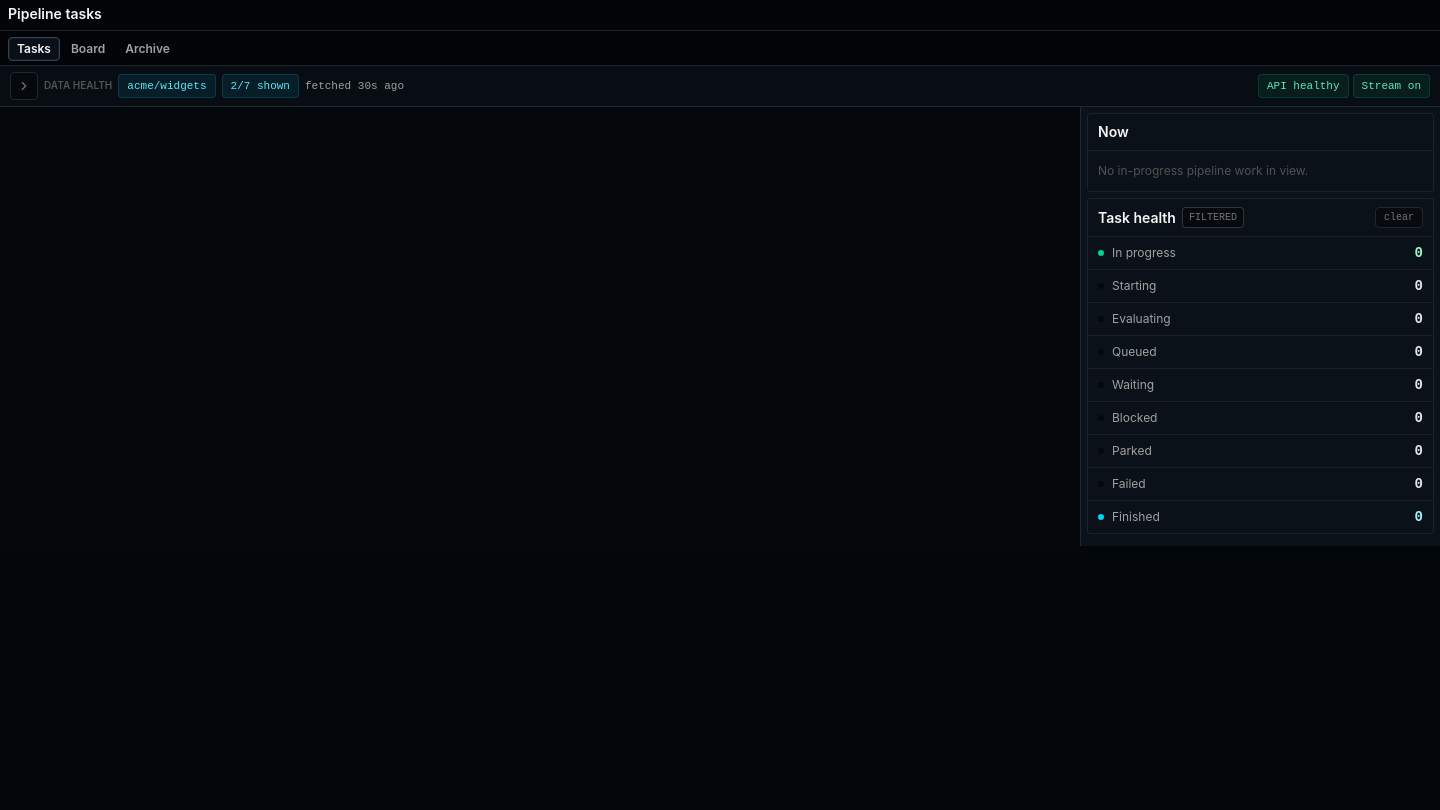
Test: PipelineWorkspace status strip › labels project scope and separates displayed, loaded, and server totals
Expected: the button "Board" is shown, [62,37,114,61]
Expected: the text "Data health" is shown, [44,79,112,93]
Click the button titled "Show data details": (24, 86) [10,72,38,100]
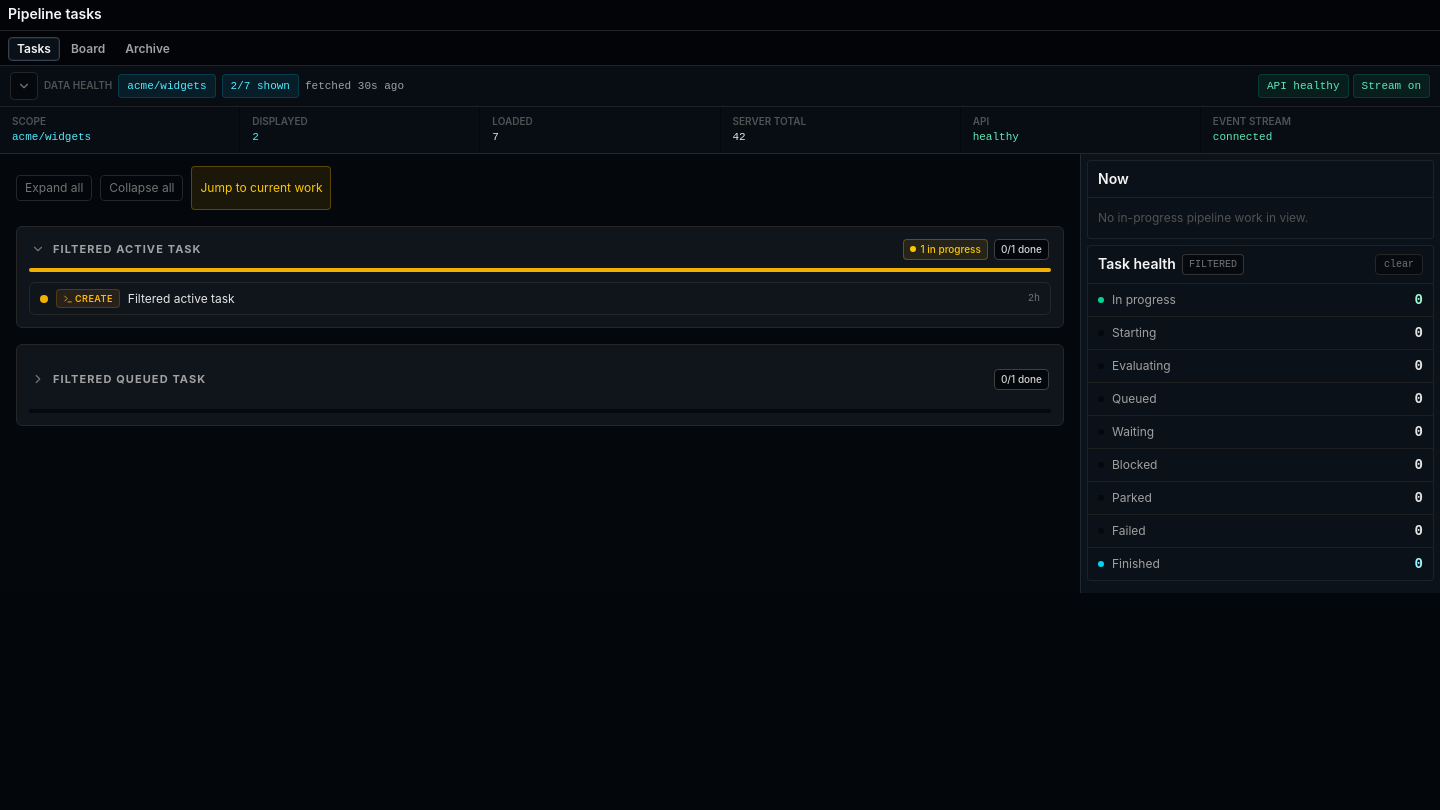
Now the text "Scope" is shown, box [12,115,46,127]
Now the text "Displayed" is shown, box [252,115,308,127]
Now the text "Loaded" is shown, box [492,115,533,127]
